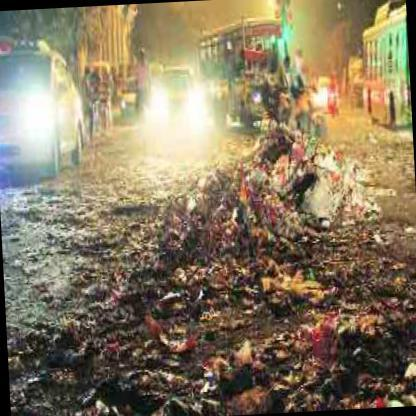Garbage: (241, 130, 341, 270), (157, 309, 288, 415), (112, 220, 212, 346), (314, 282, 410, 404), (32, 307, 111, 412)
